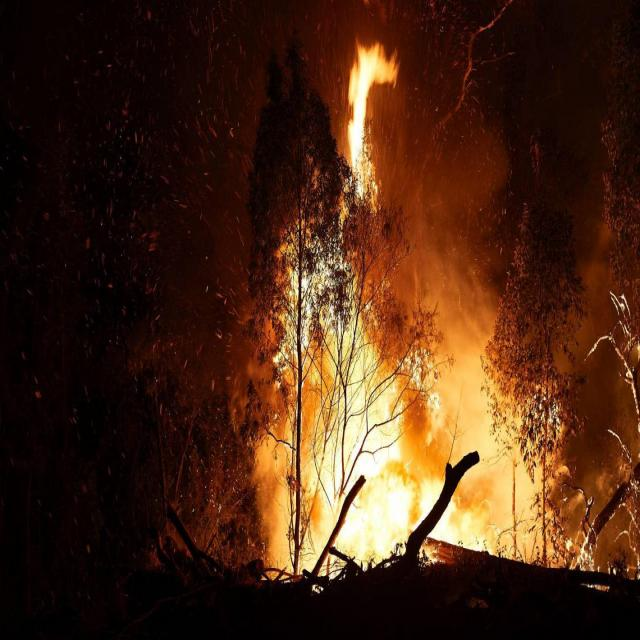fire: (253, 43, 563, 575)
